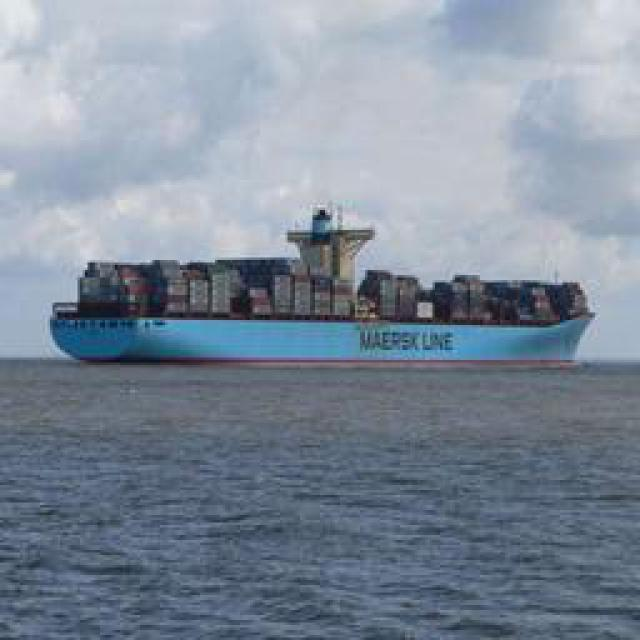Ship: (55, 243, 610, 368)
